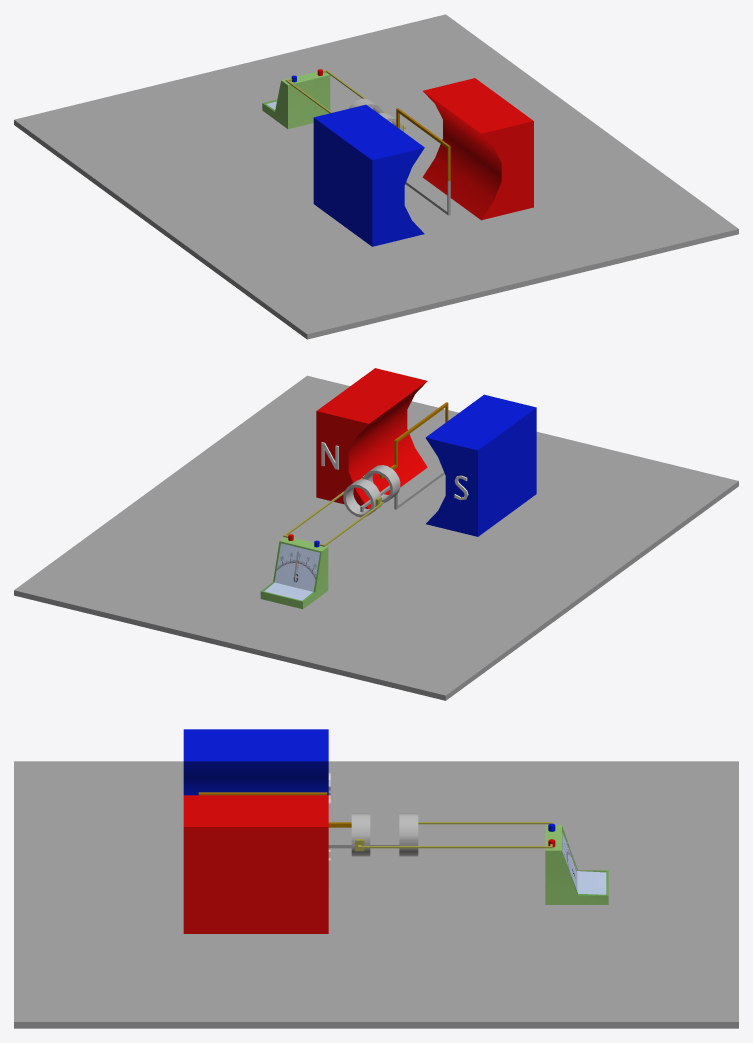
The model's file is Generator level.fbx.
3 views of the same model, one above another, from view 1: azimuth 30°, elevation 25°; view 2: azimuth 150°, elevation 25°; view 3: azimuth 270°, elevation 25° (orthographic). The views are drawn at different scales.
Parts seen in each view (by area): view 1: pCube2, Magnets, Galvanometer, Rotating_coil; view 2: pCube2, Magnets, Galvanometer, Rings, Rotating_coil; view 3: pCube2, Magnets, Galvanometer, Rings, Connecting_rods, Rotating_coil.
Boxes of the visible parts, box(x1,y1,x2,y2) form: pCube2: box(14, 14, 738, 339); Magnets: box(313, 78, 533, 246); Galvanometer: box(262, 69, 330, 129); Rotating_coil: box(396, 108, 450, 215); pCube2: box(14, 375, 738, 700); Magnets: box(316, 368, 536, 536); Galvanometer: box(260, 534, 328, 609); Rings: box(343, 465, 400, 517); Rotating_coil: box(360, 402, 448, 512); pCube2: box(14, 761, 738, 1028); Magnets: box(183, 729, 330, 933); Galvanometer: box(545, 823, 608, 904); Rings: box(351, 813, 418, 856); Connecting_rods: box(355, 822, 552, 851); Rotating_coil: box(198, 792, 399, 848).
Size of the model in its own units: 497 by 106 by 584.
